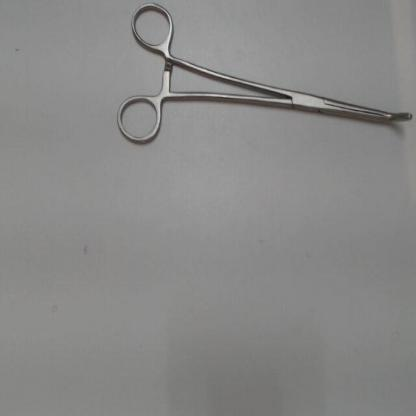Lahey Forceps: (115, 1, 415, 148)
